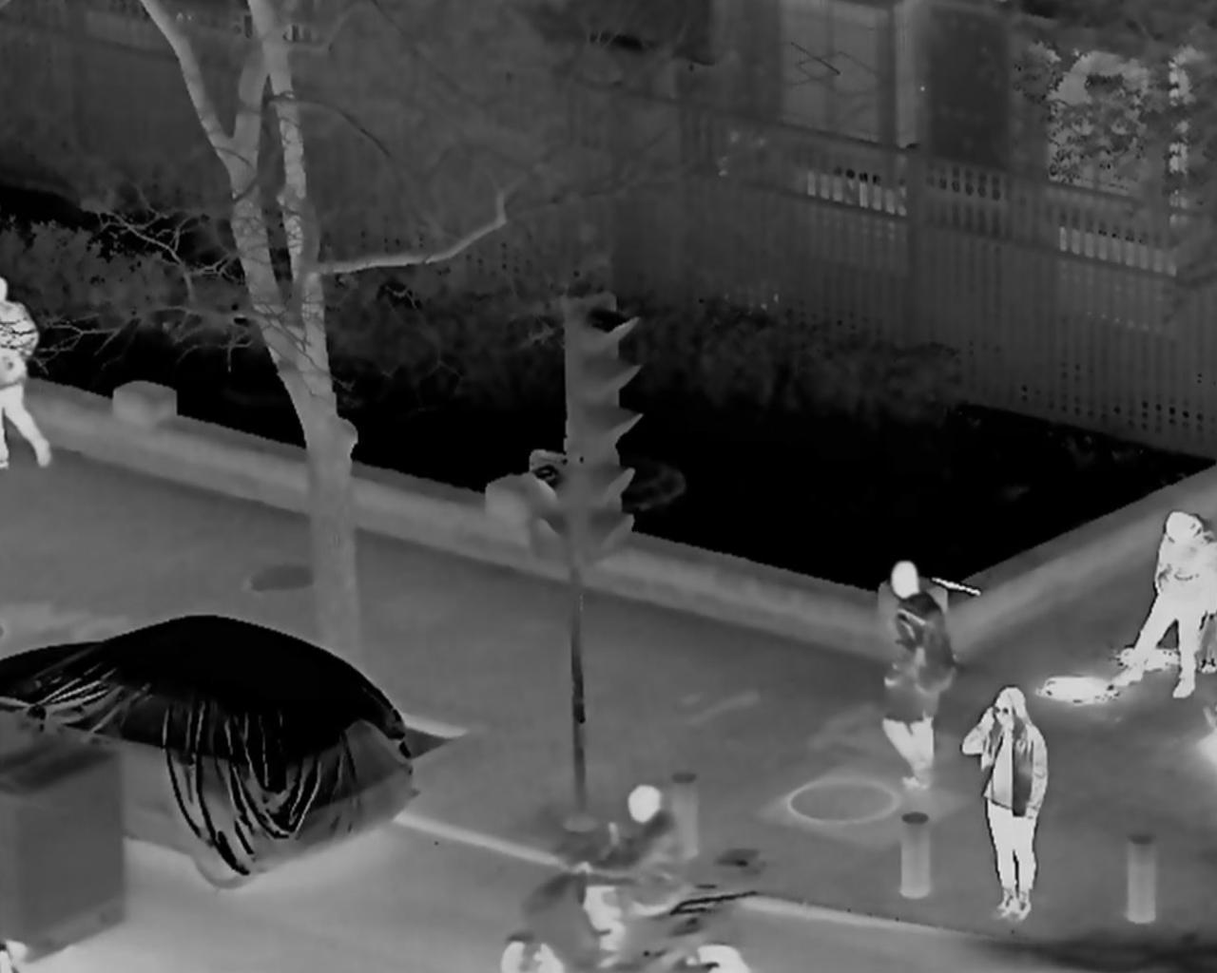person: (572, 780, 684, 952), (966, 687, 1045, 923), (879, 562, 955, 798), (1123, 511, 1209, 700)
